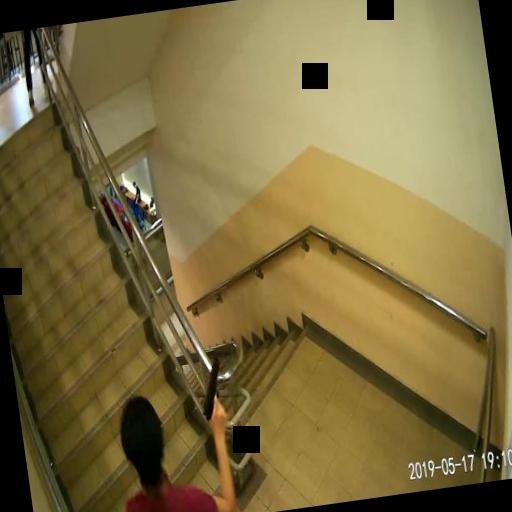Handgun: (194, 354, 228, 428)
